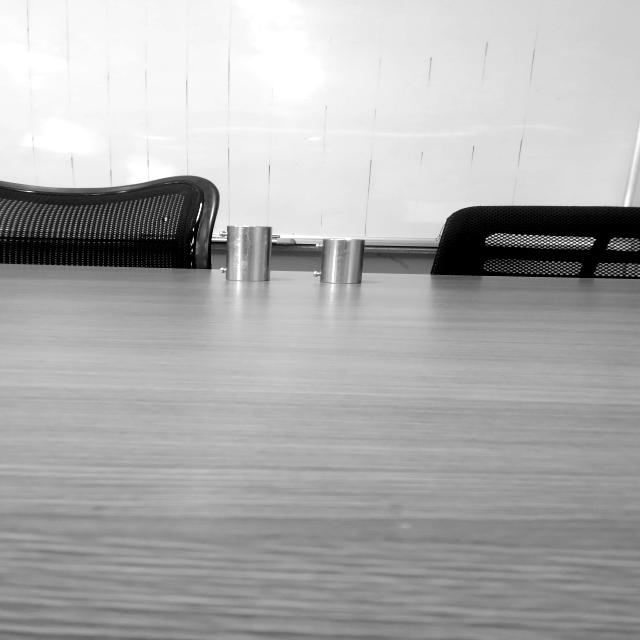Co_Lon: (217, 225, 273, 281)
Co_Nho: (313, 237, 364, 285)
